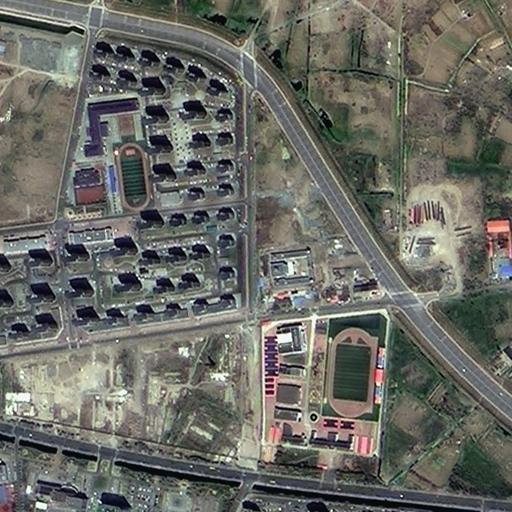school: (255, 309, 390, 479), (68, 95, 154, 214)
